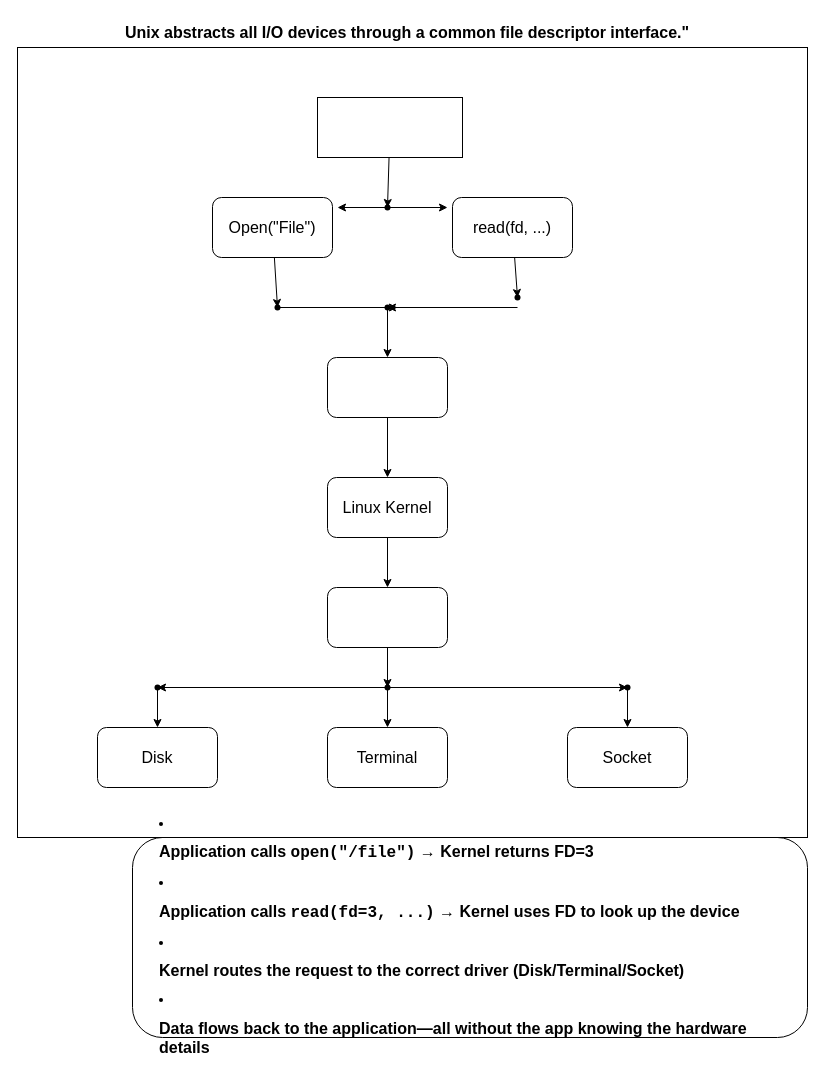
Some shapes in this 825 by 1086 pixel diagram are drawn without their labels. Here are the shapes that lost their labels. From the top down, the centre of each, then its label:
At pixel 389 127: "Application".
At pixel 387 387: "FD = 3 (Integer)".
At pixel 387 617: "Open File".
